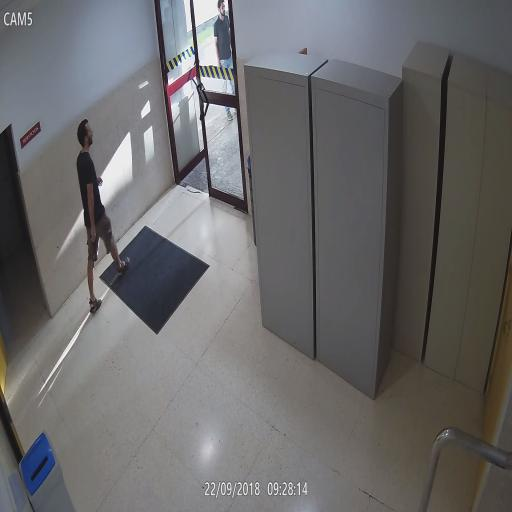Handgun: (88, 227, 99, 258)
